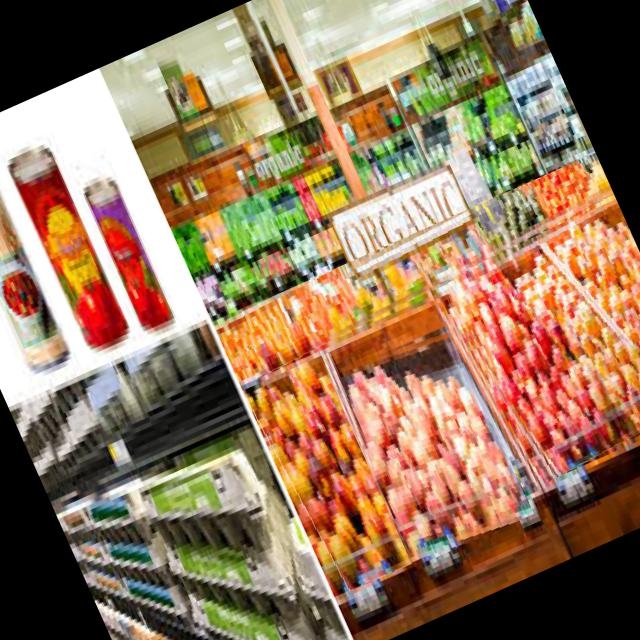Organic: (218, 153, 624, 384), (437, 199, 640, 490), (336, 319, 534, 563), (242, 357, 412, 598)
